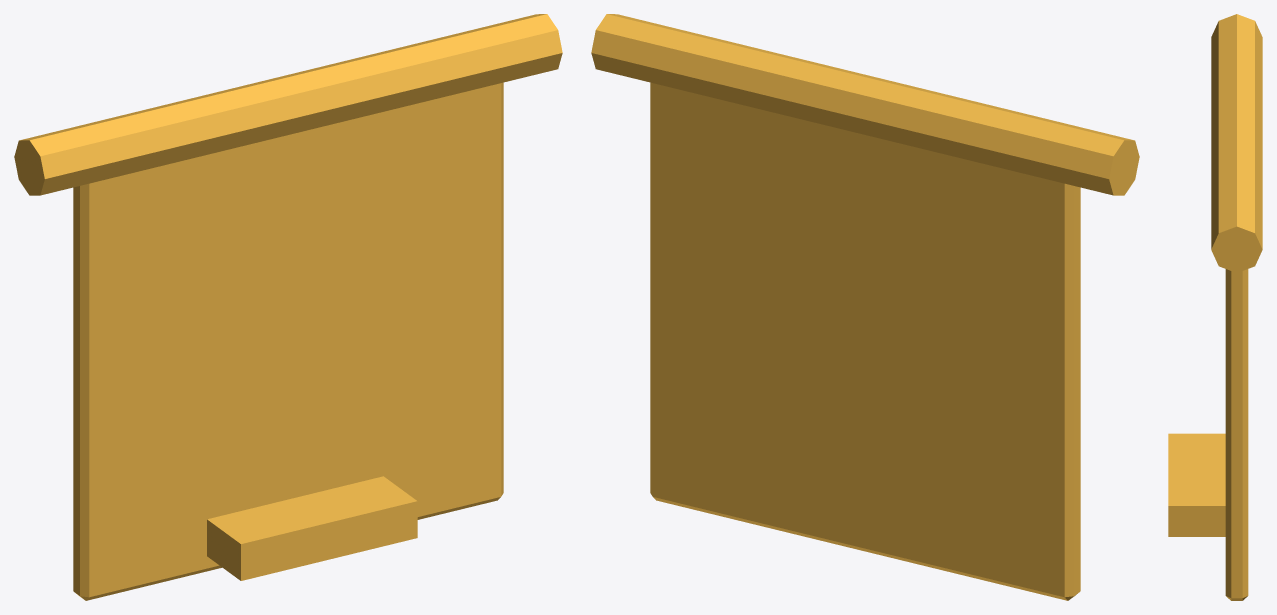
File: drop_weights_button_guard.glb
3 renders of one model, left to right at view 1: azimuth 30°, elevation 25°; view 2: azimuth 150°, elevation 25°; view 3: azimuth 270°, elevation 25°, orthographic. The views are drawn at different scales.
Visible parts, largest first — view 1: DropWeightsButtonGuard; view 2: DropWeightsButtonGuard; view 3: DropWeightsButtonGuard.
Boxes of the visible parts, x1=… form: DropWeightsButtonGuard: x1=14, y1=14, x2=562, y2=600; DropWeightsButtonGuard: x1=591, y1=14, x2=1139, y2=600; DropWeightsButtonGuard: x1=1168, y1=14, x2=1262, y2=600.
Bounding box in the file's own units: 0.088 × 0.0765 × 0.0165.
